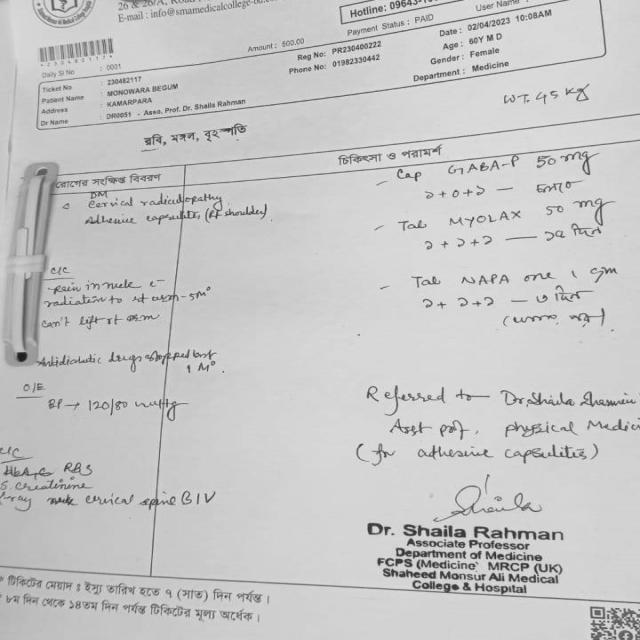Gaba-P: (439, 150, 527, 180)
Myolax: (443, 201, 535, 230)
Napa One: (451, 266, 561, 291)
